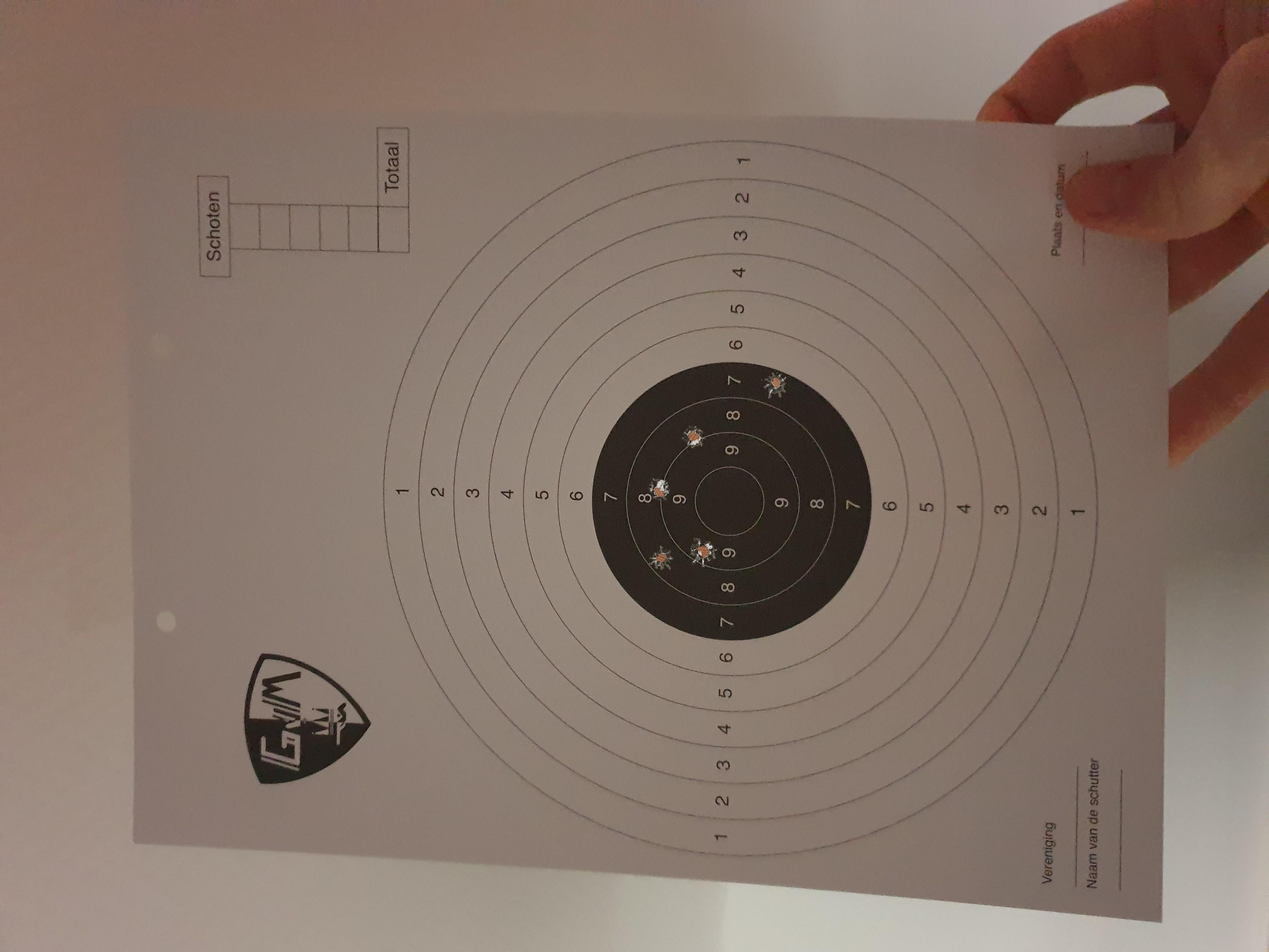hole: (690, 537, 718, 567), (648, 546, 674, 572), (764, 372, 786, 399), (682, 425, 705, 448), (648, 478, 670, 502)
